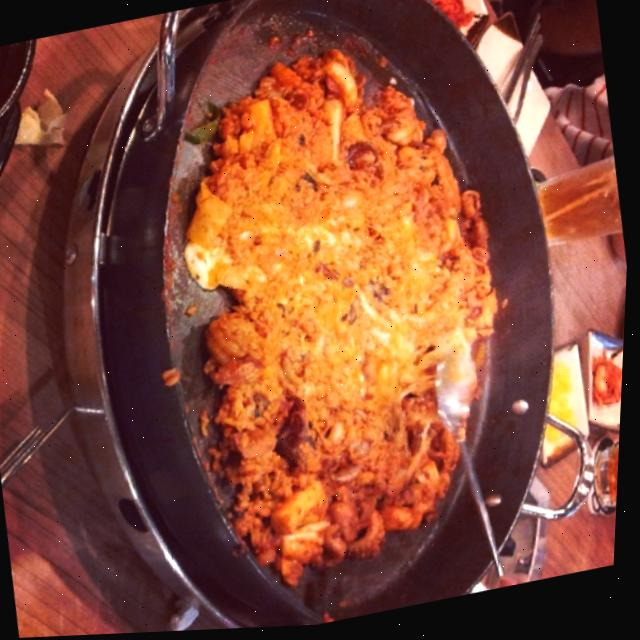鸡肉料理 含炸鸡: (82, 0, 627, 636)
